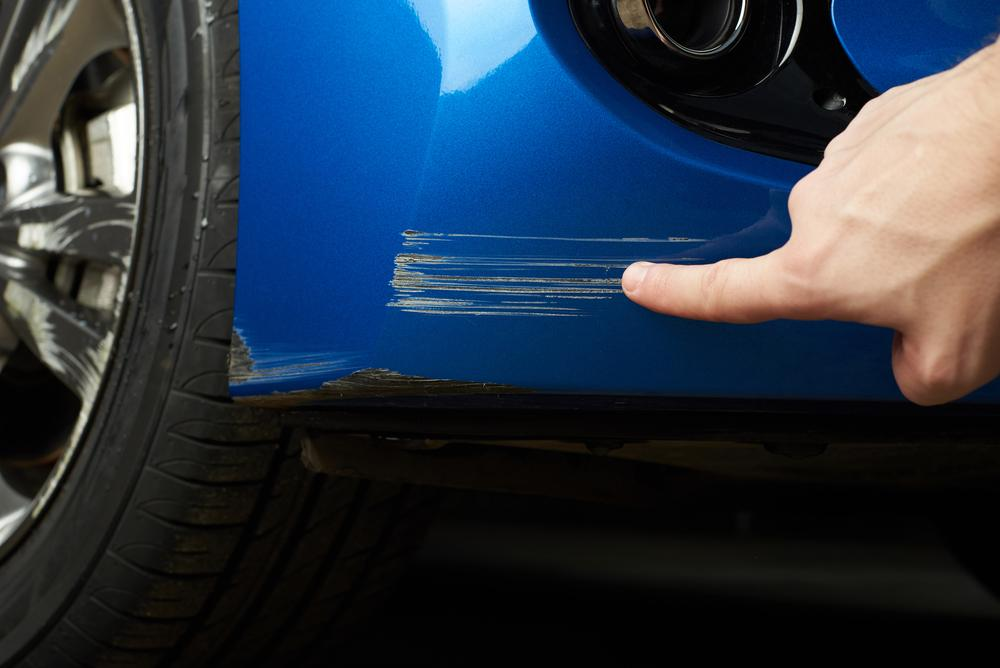scratch: (387, 225, 725, 323), (227, 321, 545, 405)
